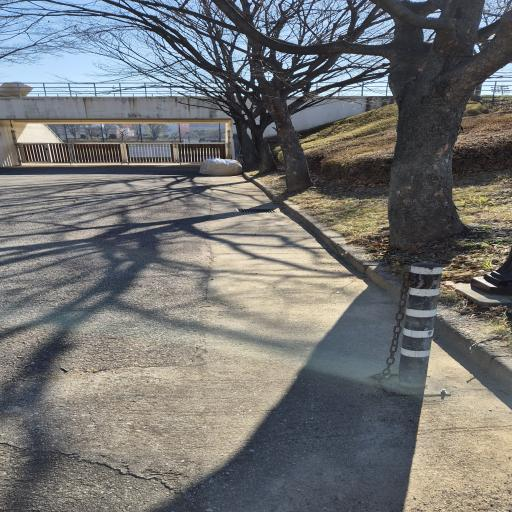drain: (236, 208, 275, 213)
